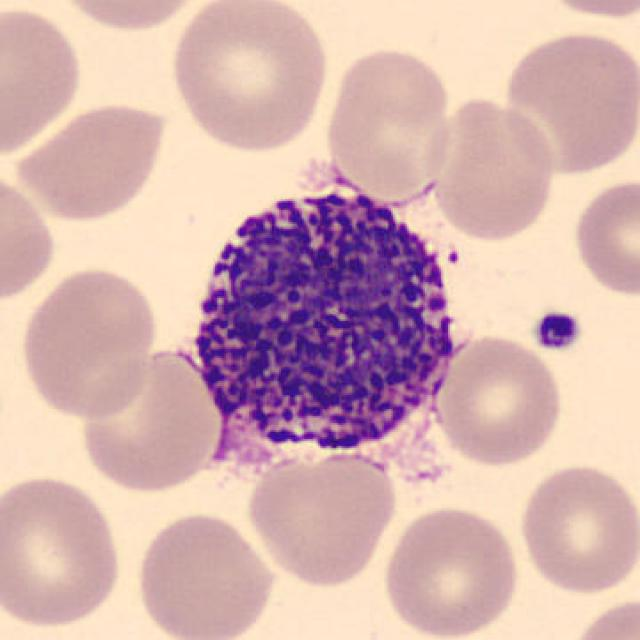Basophil: (172, 164, 483, 492)
Platelets: (531, 307, 585, 354)
RBC: (165, 0, 332, 155), (74, 342, 228, 495), (16, 263, 160, 423), (244, 446, 402, 591), (320, 42, 455, 204), (500, 27, 638, 178), (0, 469, 128, 631), (11, 97, 172, 224), (378, 500, 524, 640), (427, 94, 560, 245), (132, 508, 279, 640), (432, 330, 567, 469), (516, 460, 638, 598), (0, 2, 87, 162), (569, 174, 638, 300), (0, 165, 60, 308), (44, 0, 211, 33), (562, 594, 640, 640), (532, 0, 638, 21)
